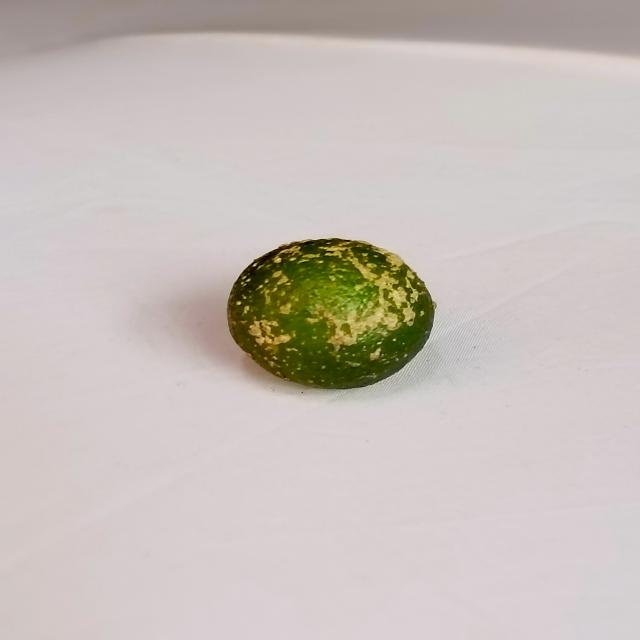scab: (227, 232, 447, 394)
